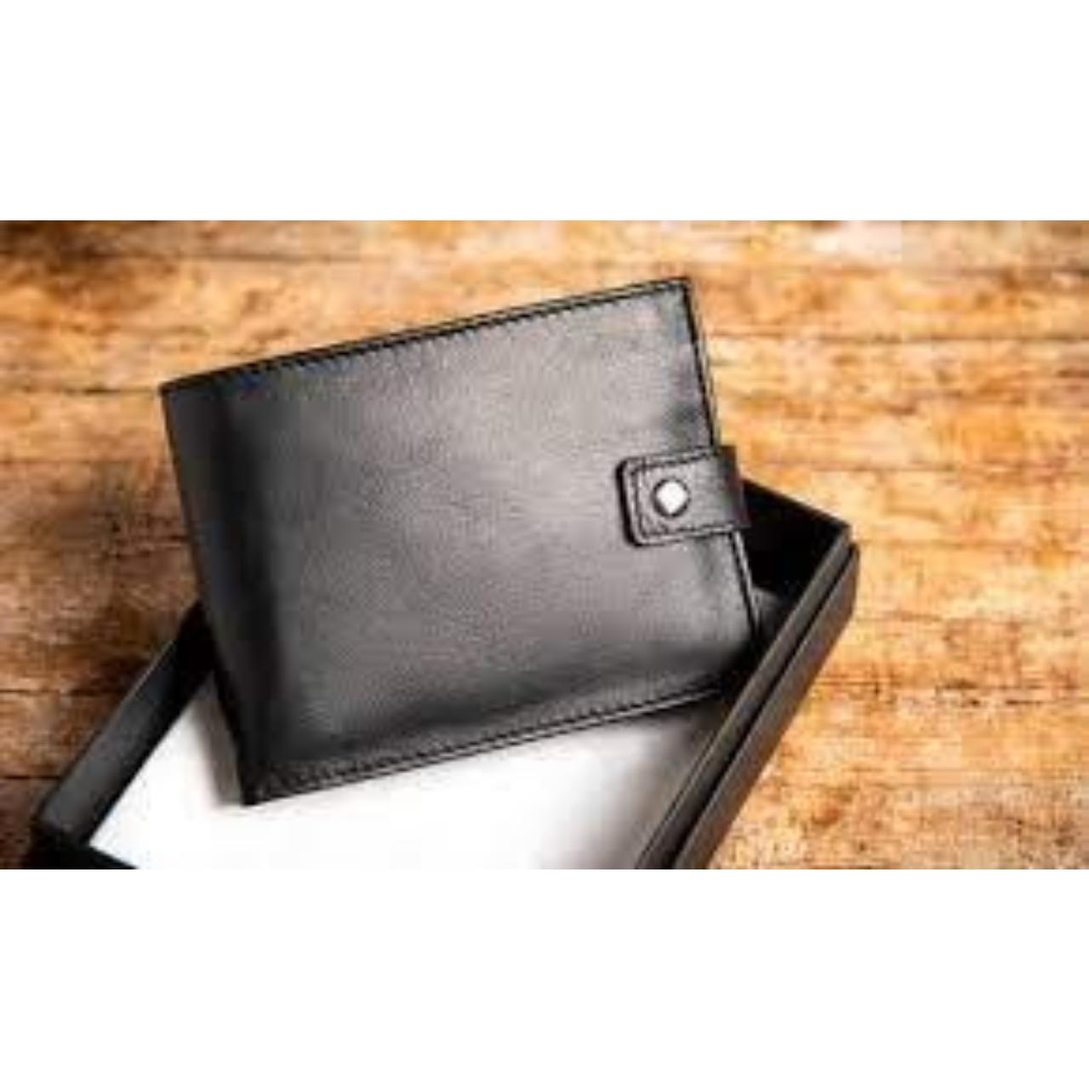wallet: (115, 258, 884, 790)
